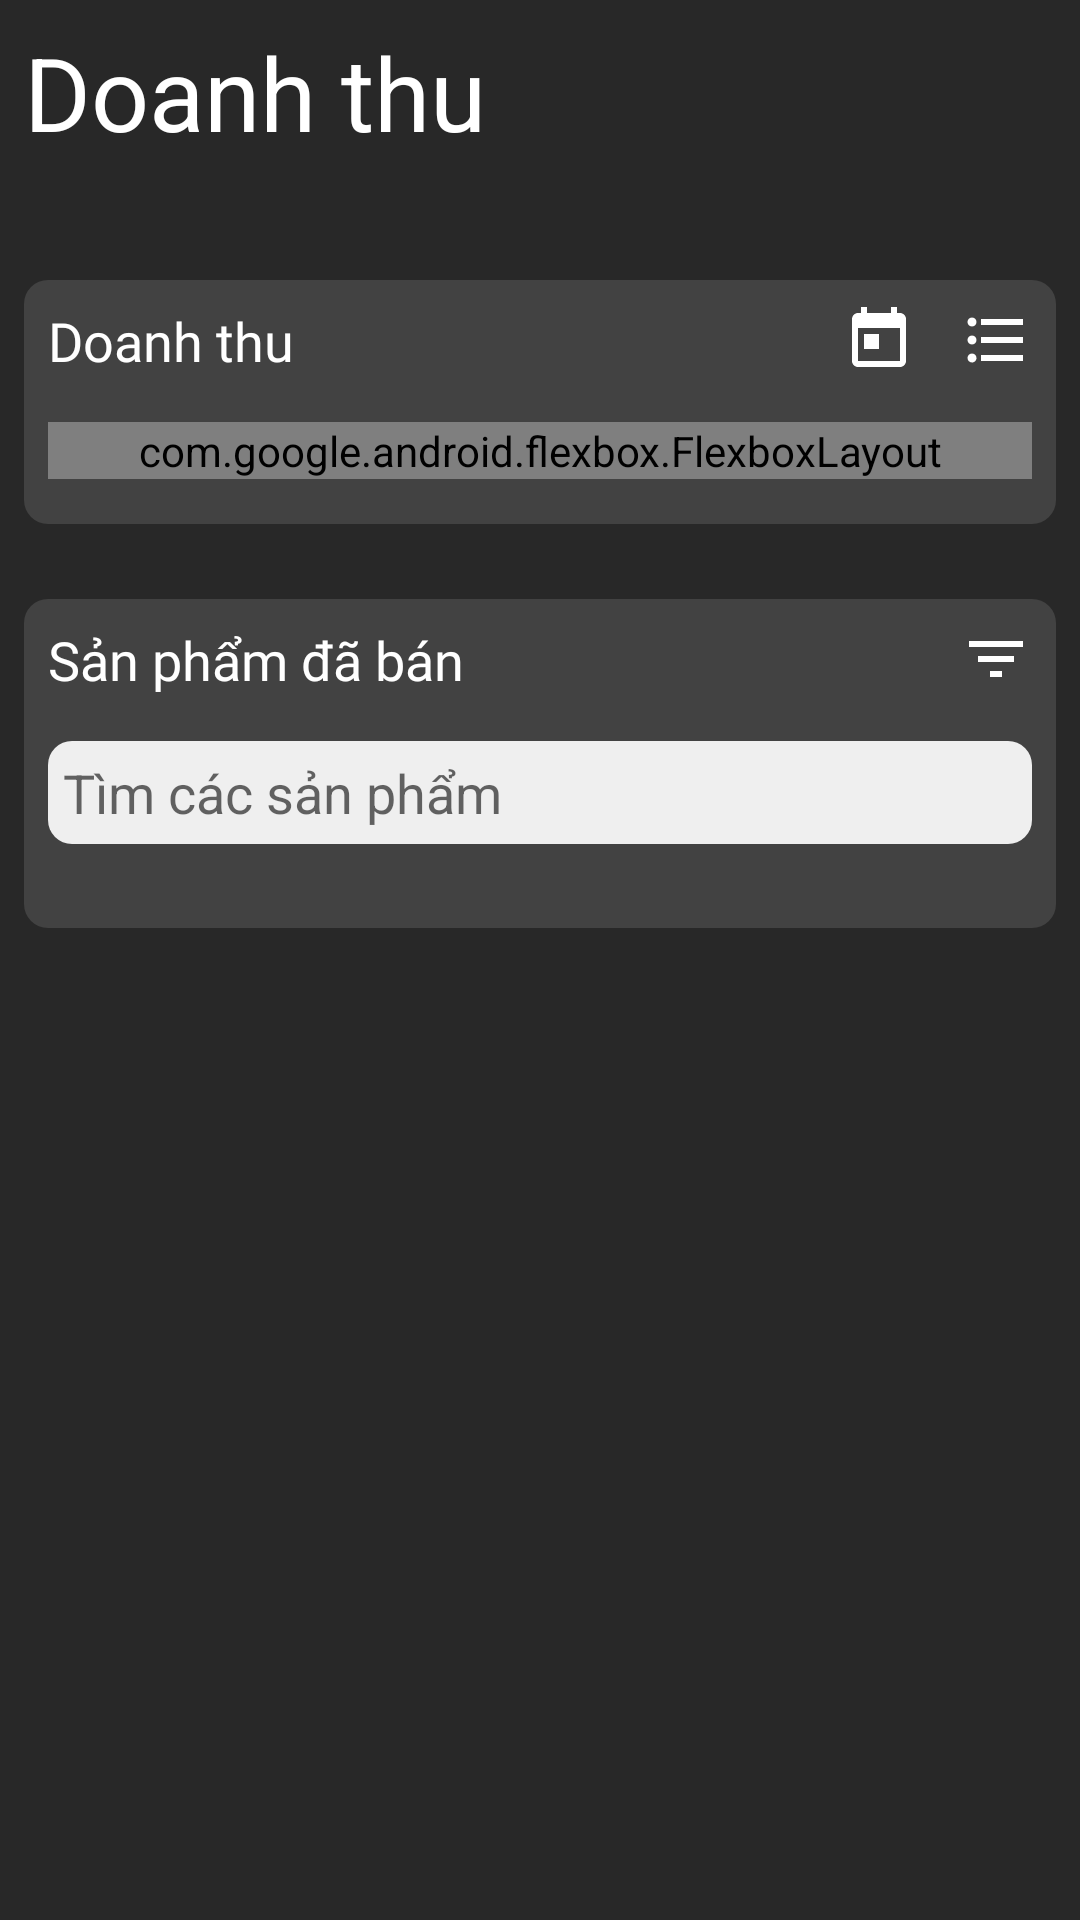

Named icons in this screenshot (1080 x 1920) and their bounding boxes, (x1, y1, x2, y2):
change date: (852, 307, 906, 367)
filter: (969, 641, 1023, 677)
show more: (967, 317, 1023, 363)
